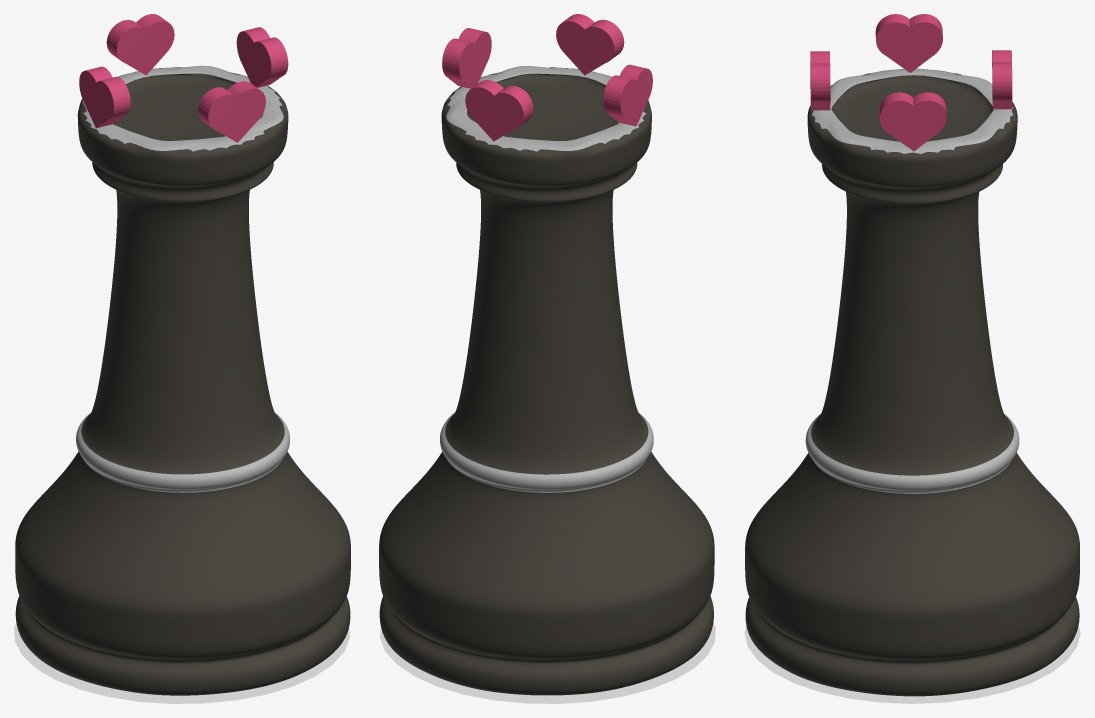
File: torre2.fbx
3 renders of one model, left to right at view 1: azimuth 30°, elevation 25°; view 2: azimuth 150°, elevation 25°; view 3: azimuth 270°, elevation 25°, orthographic.
Visible parts, largest first — view 1: Trn-m, Bonde-m.026, Cylinder, Cylinder.004, Cylinder.006, Cube, Cylinder.002, Cube.002, Cylinder.001, Cylinder.005, Cube.003, Cube.001 (+2 smaller); view 2: Trn-m, Bonde-m.026, Cube, Cylinder.004, Cylinder, Cube.002, Cylinder.003, Cylinder.007, Cylinder.001, Cylinder.005, Cube.003, Cube.001 (+2 smaller); view 3: Trn-m, Bonde-m.026, Cube.001, Cube.003, Cylinder.002, Cylinder.006, Cylinder.003, Cylinder.007, Cylinder.005, Cylinder.001.
Boxes of the visible parts, left/top/right/bottom form: Trn-m: left=15, top=65, right=350, bottom=695; Bonde-m.026: left=14, top=623, right=349, bottom=703; Cylinder: left=198, top=87, right=236, bottom=130; Cylinder.004: left=106, top=20, right=145, bottom=62; Cylinder.006: left=96, top=76, right=130, bottom=119; Cube: left=215, top=97, right=258, bottom=142; Cylinder.002: left=254, top=37, right=288, bottom=79; Cube.002: left=124, top=30, right=166, bottom=75; Cylinder.001: left=228, top=81, right=265, bottom=118; Cylinder.005: left=136, top=14, right=174, bottom=51; Cube.003: left=83, top=83, right=124, bottom=128; Cube.001: left=241, top=43, right=282, bottom=87; Trn-m: left=379, top=66, right=714, bottom=695; Bonde-m.026: left=380, top=622, right=715, bottom=703; Cube: left=563, top=30, right=606, bottom=75; Cylinder.004: left=492, top=85, right=533, bottom=128; Cylinder: left=583, top=19, right=624, bottom=62; Cube.002: left=472, top=96, right=515, bottom=141; Cylinder.003: left=442, top=38, right=474, bottom=80; Cylinder.007: left=603, top=75, right=636, bottom=116; Cylinder.001: left=556, top=14, right=594, bottom=51; Cylinder.005: left=465, top=80, right=503, bottom=117; Cube.003: left=608, top=80, right=648, bottom=126; Cube.001: left=446, top=44, right=487, bottom=88; Trn-m: left=745, top=68, right=1079, bottom=696; Bonde-m.026: left=744, top=625, right=1080, bottom=703; Cube.001: left=888, top=106, right=937, bottom=151; Cube.003: left=884, top=27, right=934, bottom=72; Cylinder.002: left=879, top=92, right=913, bottom=132; Cylinder.006: left=875, top=14, right=909, bottom=54; Cylinder.003: left=913, top=92, right=946, bottom=132; Cylinder.007: left=909, top=14, right=942, bottom=54; Cylinder.005: left=992, top=62, right=1012, bottom=101; Cylinder.001: left=810, top=63, right=830, bottom=102.
Bounding box in the file's own units: 51.53 × 97.32 × 51.43.
